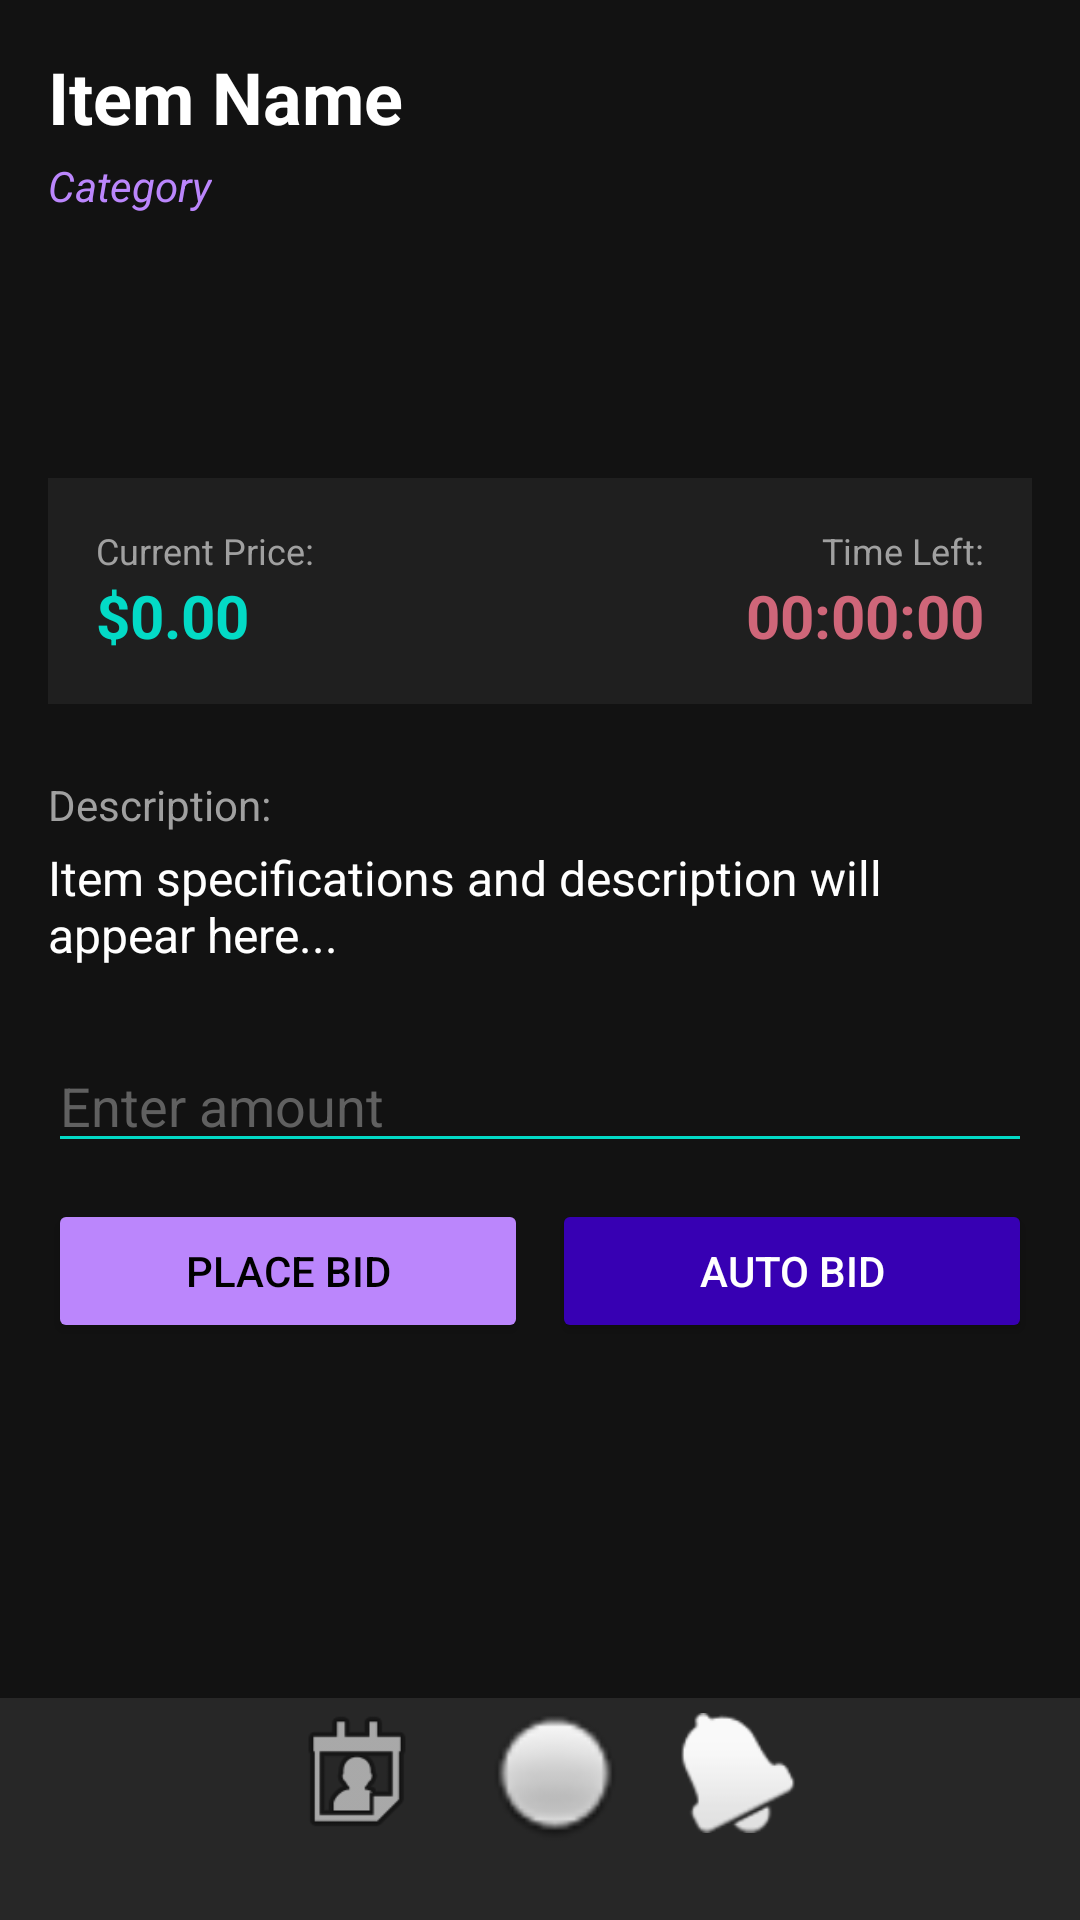

Icons on this 1080×1920 Android screen, each with the point to tap as (x,y):
calendar: (357,1771)
popup reminder: (738,1773)
